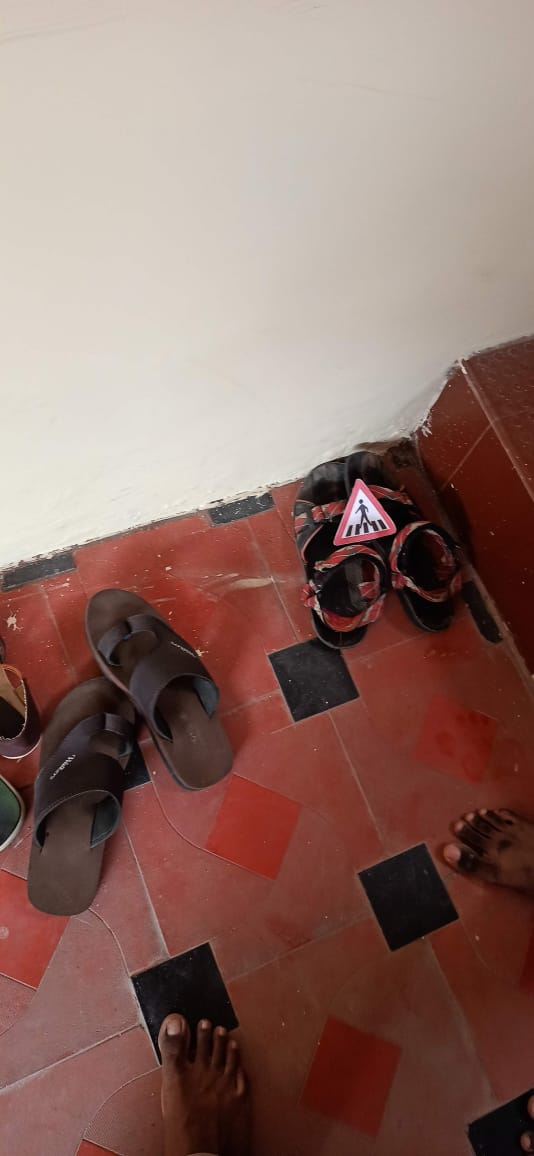PEDESTRIAN CROSSING: (334, 472, 419, 562)
